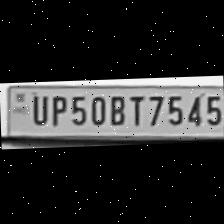0: (86, 92, 106, 125)
4: (182, 90, 202, 126)
5: (66, 90, 88, 127), (202, 90, 222, 127), (162, 92, 182, 126)
7: (144, 91, 162, 126)
B: (106, 92, 127, 126)
P: (46, 92, 66, 126)
T: (126, 92, 146, 126)
U: (26, 92, 48, 125)
